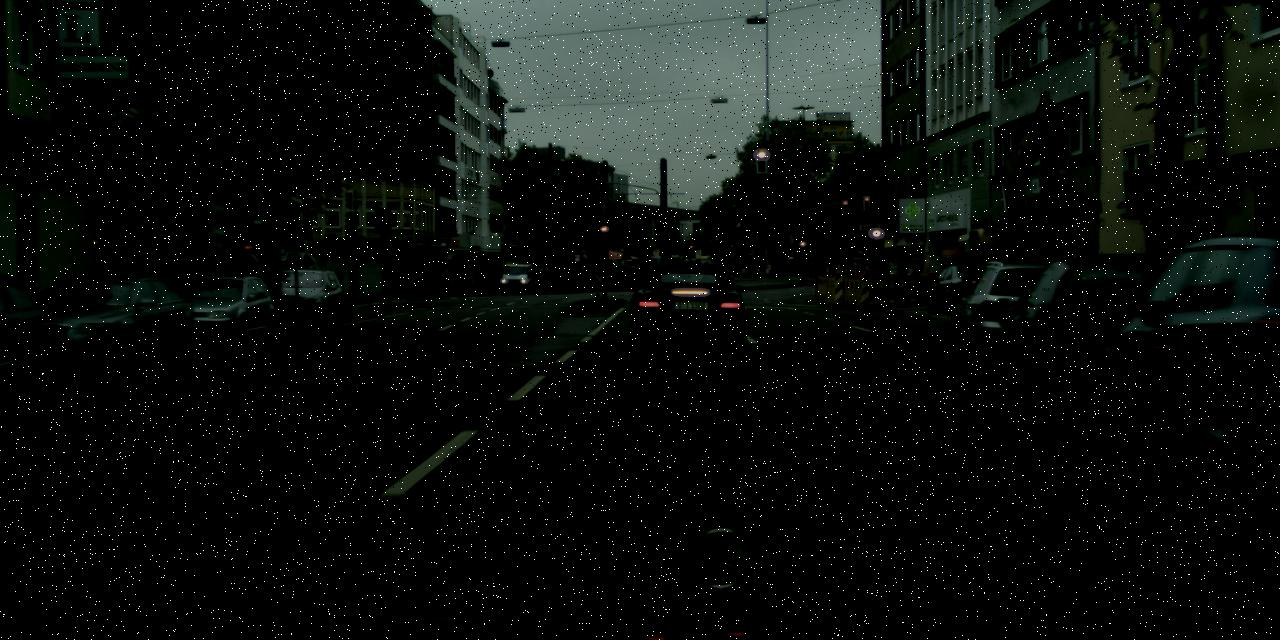ped: (449, 265, 469, 294), (397, 266, 408, 294), (436, 267, 447, 292)
